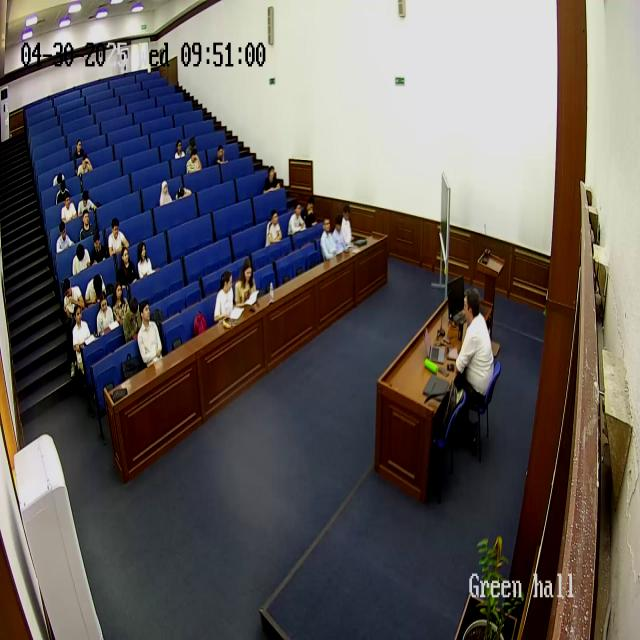person: (452, 288, 494, 414), (137, 301, 163, 367), (70, 302, 91, 382), (234, 259, 258, 310), (214, 270, 236, 324), (122, 292, 142, 344), (63, 278, 85, 323), (95, 289, 115, 338), (108, 218, 130, 260), (112, 281, 130, 326), (119, 244, 137, 289), (321, 216, 339, 260), (86, 273, 108, 309), (332, 212, 350, 254), (266, 209, 284, 247), (72, 242, 92, 276), (288, 200, 306, 236), (137, 241, 153, 280), (78, 209, 96, 243), (341, 204, 355, 246), (56, 222, 74, 254), (263, 164, 282, 194), (90, 232, 109, 262), (61, 190, 77, 223), (301, 194, 318, 225), (76, 152, 92, 179), (186, 148, 202, 174), (159, 178, 173, 205), (52, 183, 72, 201), (175, 178, 193, 197), (176, 138, 188, 160), (72, 139, 88, 155), (215, 145, 227, 165), (53, 165, 65, 181)
